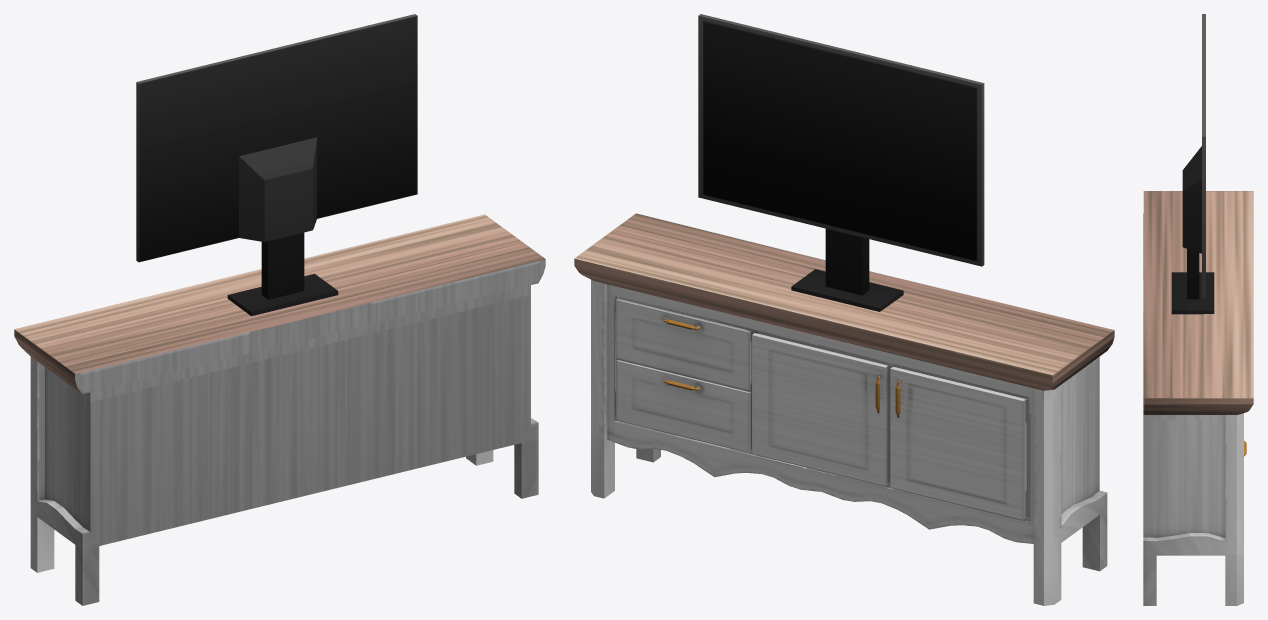
The model's file is ELT0110047.fbx.
3 renders of one model, left to right at view 1: azimuth 30°, elevation 25°; view 2: azimuth 150°, elevation 25°; view 3: azimuth 270°, elevation 25°, orthographic. The views are drawn at different scales.
Visible parts, largest first — view 1: smELT0110047; view 2: smELT0110047; view 3: smELT0110047.
Boxes of the visible parts, x1,y1,x2,y2 form: smELT0110047: (14,14,545,605); smELT0110047: (574,14,1114,605); smELT0110047: (1143,14,1253,605).
Bounding box in the file's own units: 163 × 158 × 36.65.
1 material, 1 textured.
